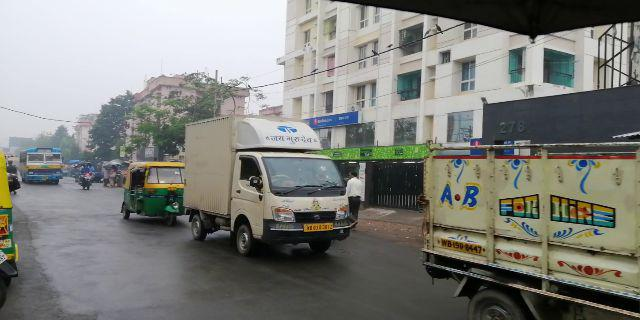Autorickshaw: (124, 164, 182, 223)
Bus: (23, 144, 65, 187)
Minitruck: (418, 127, 640, 320), (184, 116, 352, 267)
